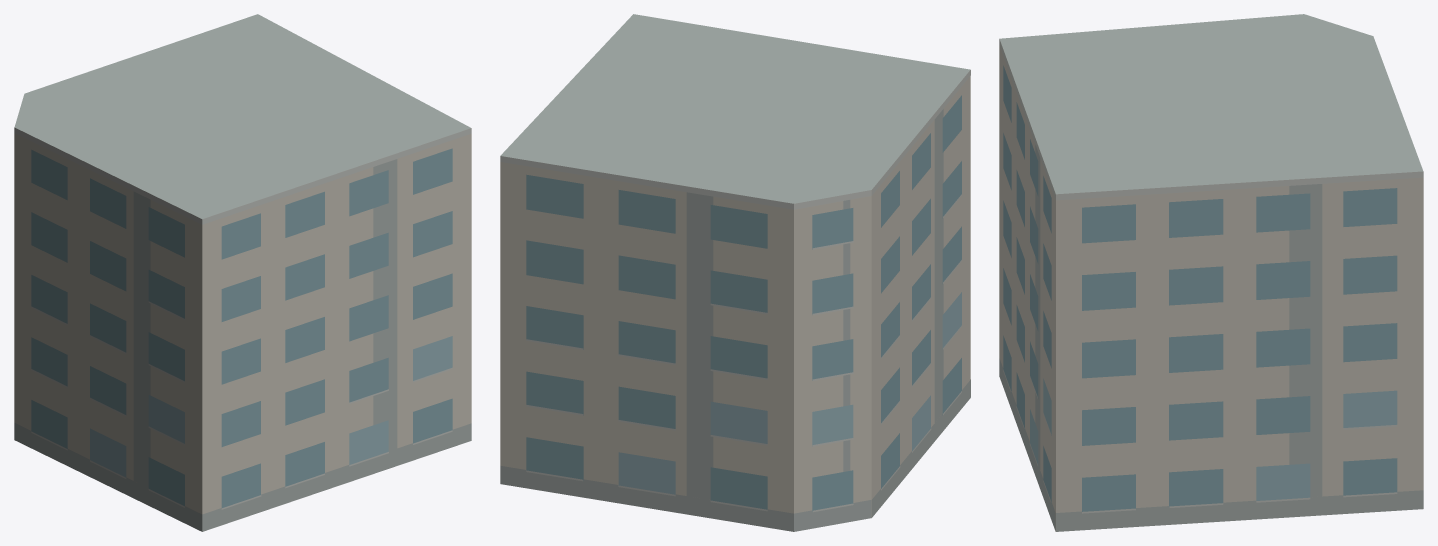
The model's file is survey-upis-32526877.glb.
3 views of the same model, side by side, from view 1: azimuth 30°, elevation 25°; view 2: azimuth 150°, elevation 25°; view 3: azimuth 270°, elevation 25° (orthographic). The views are drawn at different scales.
Visible parts, largest first — view 1: survey-upis-32526877.tmp; view 2: survey-upis-32526877.tmp; view 3: survey-upis-32526877.tmp.
Boxes of the visible parts, x1=… form: survey-upis-32526877.tmp: x1=14, y1=14, x2=471, y2=531; survey-upis-32526877.tmp: x1=500, y1=14, x2=970, y2=531; survey-upis-32526877.tmp: x1=999, y1=14, x2=1423, y2=531.
Size of the model in its own units: 15.41 by 13.45 by 15.32.
